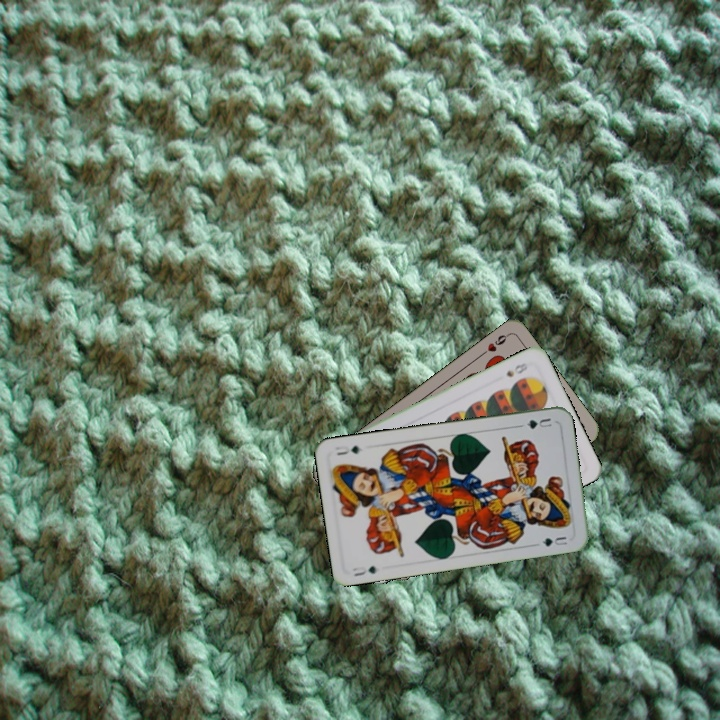GU: (516, 414, 554, 432), (348, 562, 380, 579)
H9: (477, 330, 511, 359)
S8: (502, 359, 530, 379)
